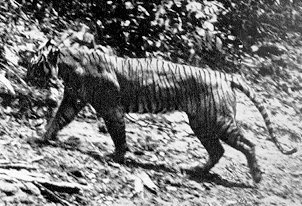tigre: (23, 37, 268, 184)
